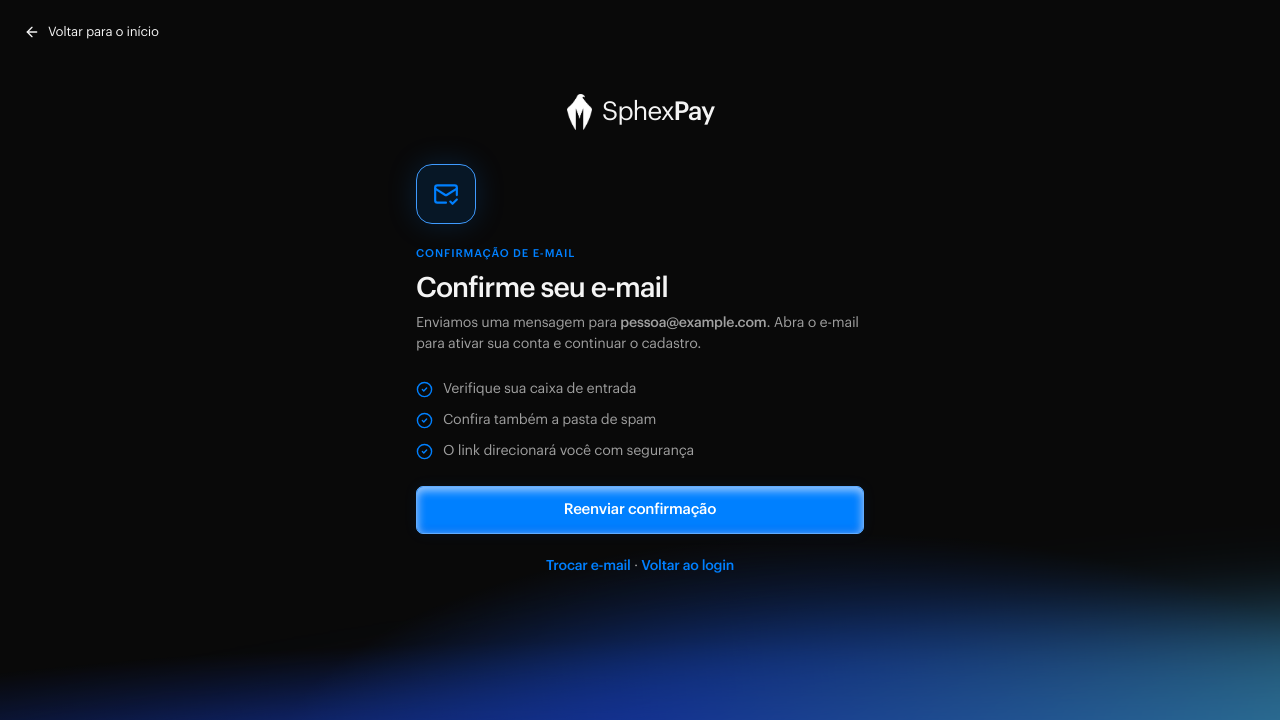
fluxos públicos de autenticação › mostra confirmação, troca de e-mail e reenvio com rate limit visual
Expected: the heading "Confirme seu e-mail" is shown, [416, 274, 668, 302]
Click the button "Reenviar confirmação" at [640, 510], box [416, 486, 864, 534]
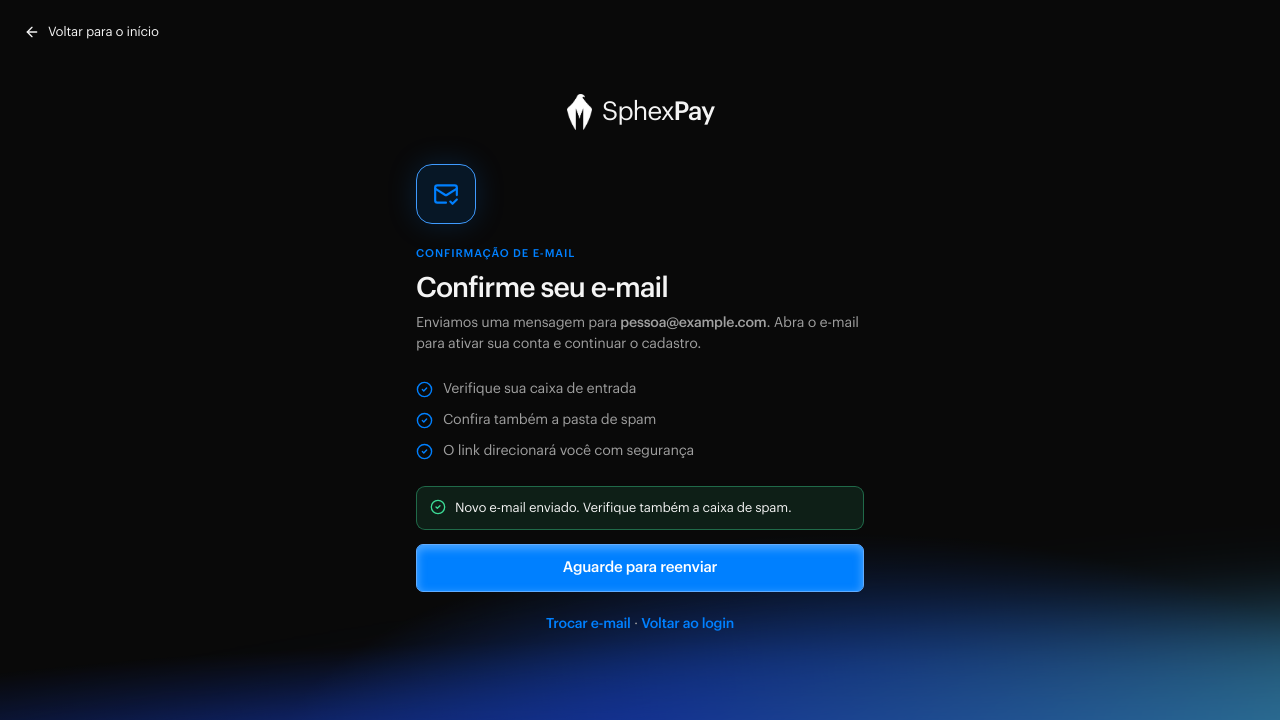
Expected: the button "Aguarde para reenviar" is disabled, [416, 544, 864, 592]
